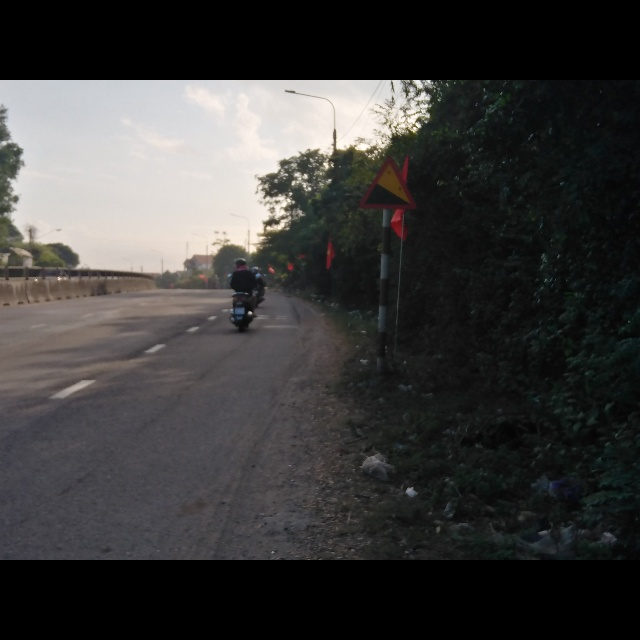Dốc lên nguy hiểm: (358, 157, 415, 210)
